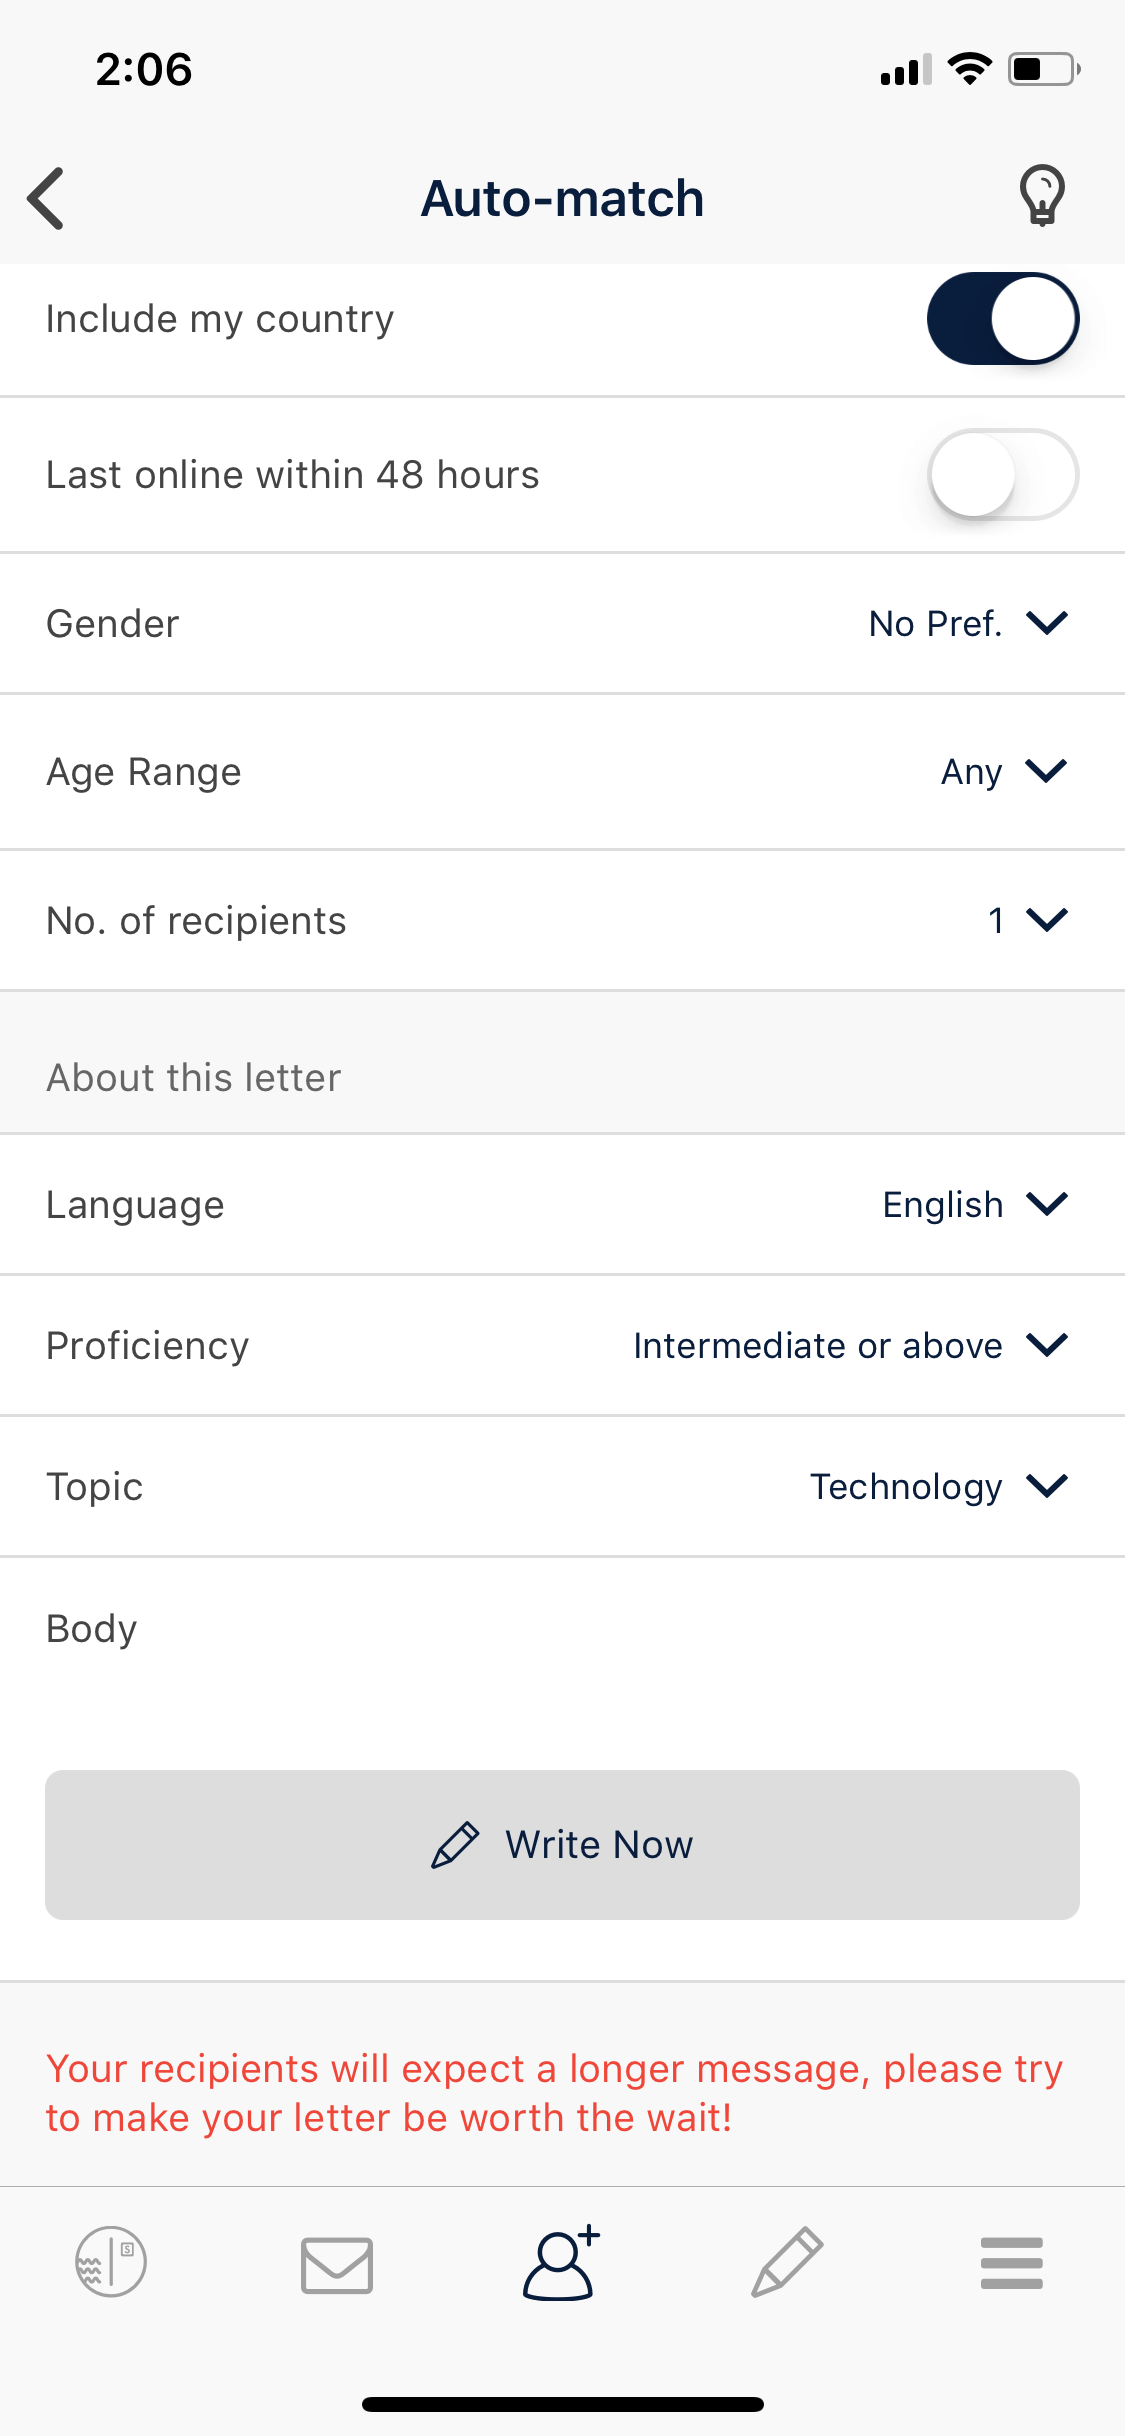Buttons: (36, 1759, 1088, 1950), (2, 123, 110, 259), (984, 148, 1106, 253)
Switches: (906, 423, 1089, 534), (914, 267, 1085, 374)
